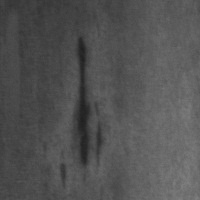inclusion: (71, 32, 110, 171)
